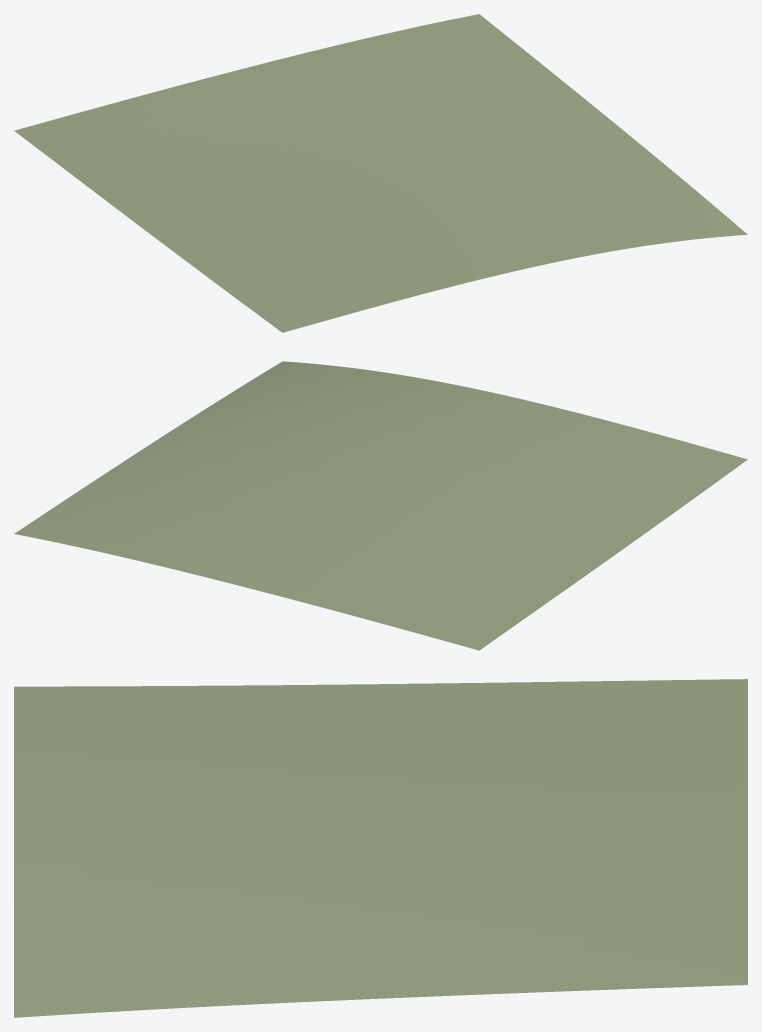
The model's file is expanse-3-29.glb.
3 views of the same model, one above another, from view 1: azimuth 30°, elevation 25°; view 2: azimuth 150°, elevation 25°; view 3: azimuth 270°, elevation 25° (orthographic). The views are drawn at different scales.
Parts seen in each view (by area): view 1: expanse-3-29; view 2: expanse-3-29; view 3: expanse-3-29.
Boxes of the visible parts, <box> form: expanse-3-29: <box>14,14,747,332</box>; expanse-3-29: <box>14,361,747,650</box>; expanse-3-29: <box>14,679,747,1017</box>.
Bounding box in the file's own units: 256 × 14.51 × 256.
